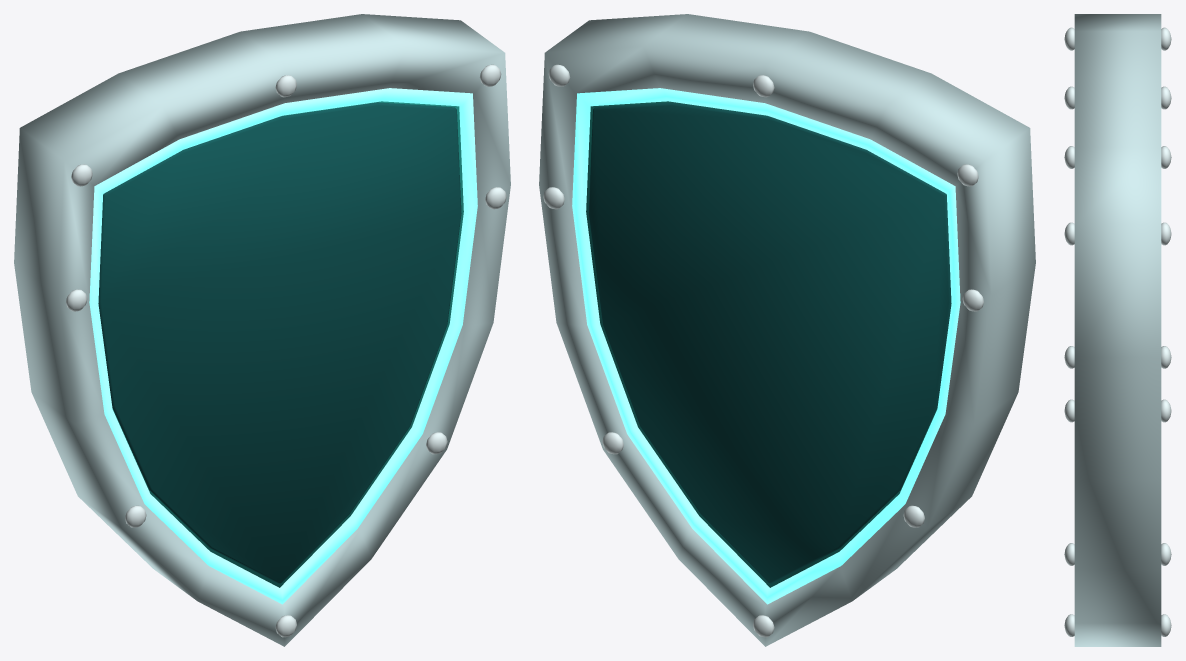
Rendered from hedgeguard_shield.glb.
3 renders of one model, left to right at view 1: azimuth 30°, elevation 25°; view 2: azimuth 150°, elevation 25°; view 3: azimuth 270°, elevation 25°, orthographic. The views are drawn at different scales.
Visible parts, largest first — view 1: HedgeguardShield; view 2: HedgeguardShield; view 3: HedgeguardShield.
Boxes of the visible parts, <box> form: HedgeguardShield: <box>14,14,510,646</box>; HedgeguardShield: <box>539,14,1035,646</box>; HedgeguardShield: <box>1064,14,1171,646</box>.
Size of the model in its own units: 1.59 by 1.96 by 0.334.
